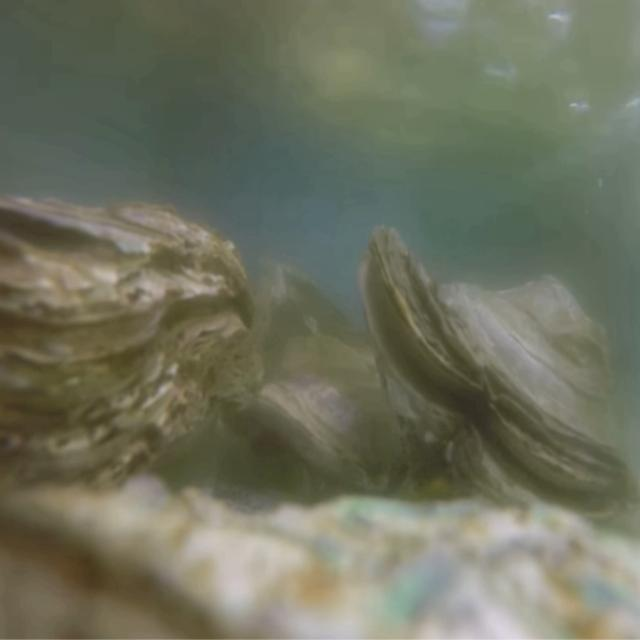Oyster-Closed: (0, 192, 254, 524)
Oyster-Indeterminate: (0, 476, 640, 640), (259, 337, 417, 505)
Oyster-Open: (358, 224, 640, 540)
